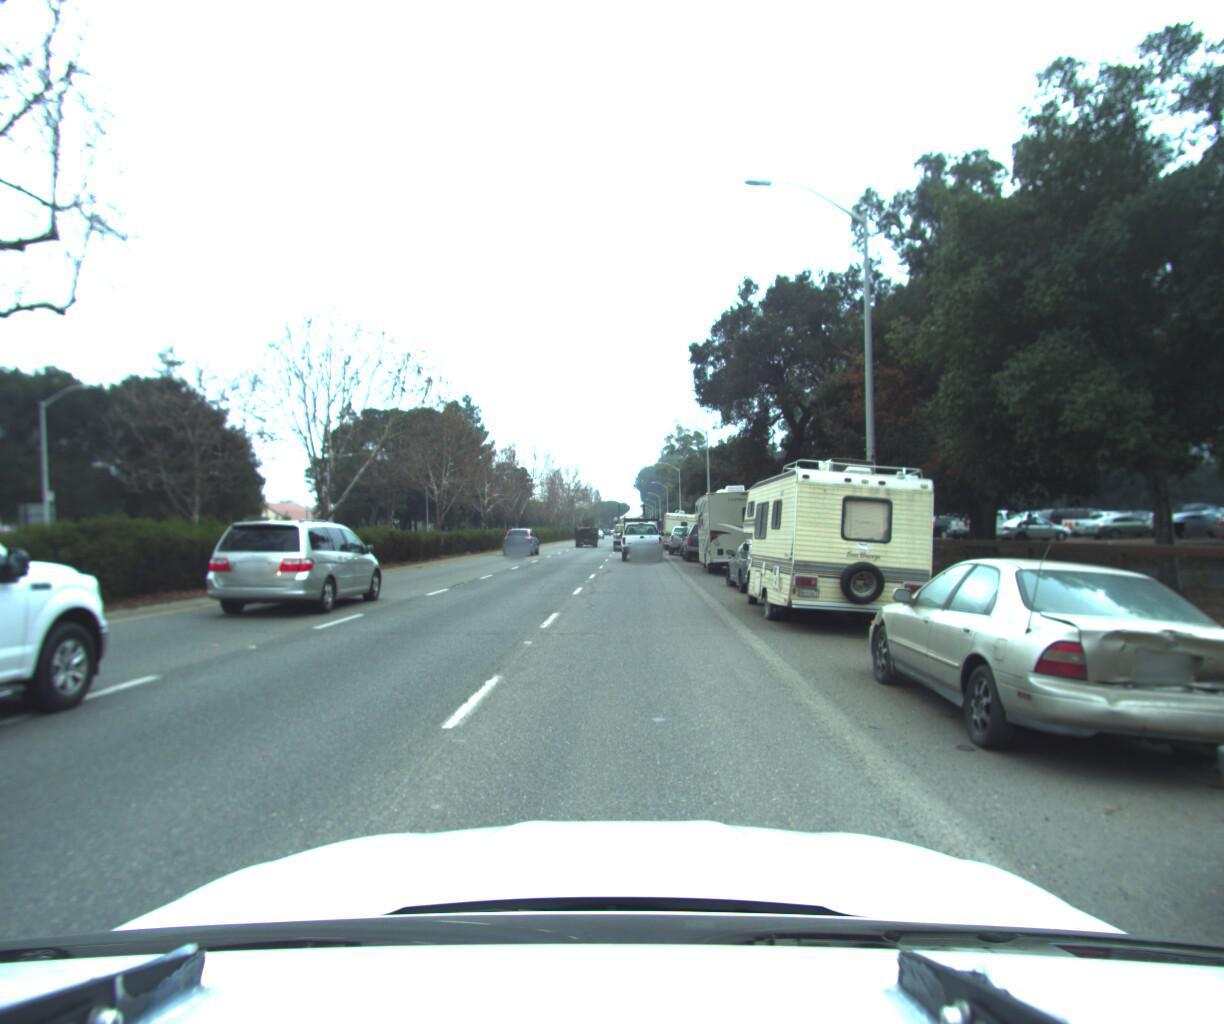car: (845, 540, 1224, 788), (0, 418, 149, 1024), (194, 514, 391, 620), (720, 530, 819, 593), (619, 510, 666, 556), (682, 516, 729, 559), (500, 527, 540, 556), (667, 520, 702, 551), (610, 519, 637, 547), (572, 520, 601, 543)
other_vehicle: (731, 439, 958, 636), (692, 478, 792, 573), (659, 503, 701, 546)
truck: (618, 497, 650, 542)
